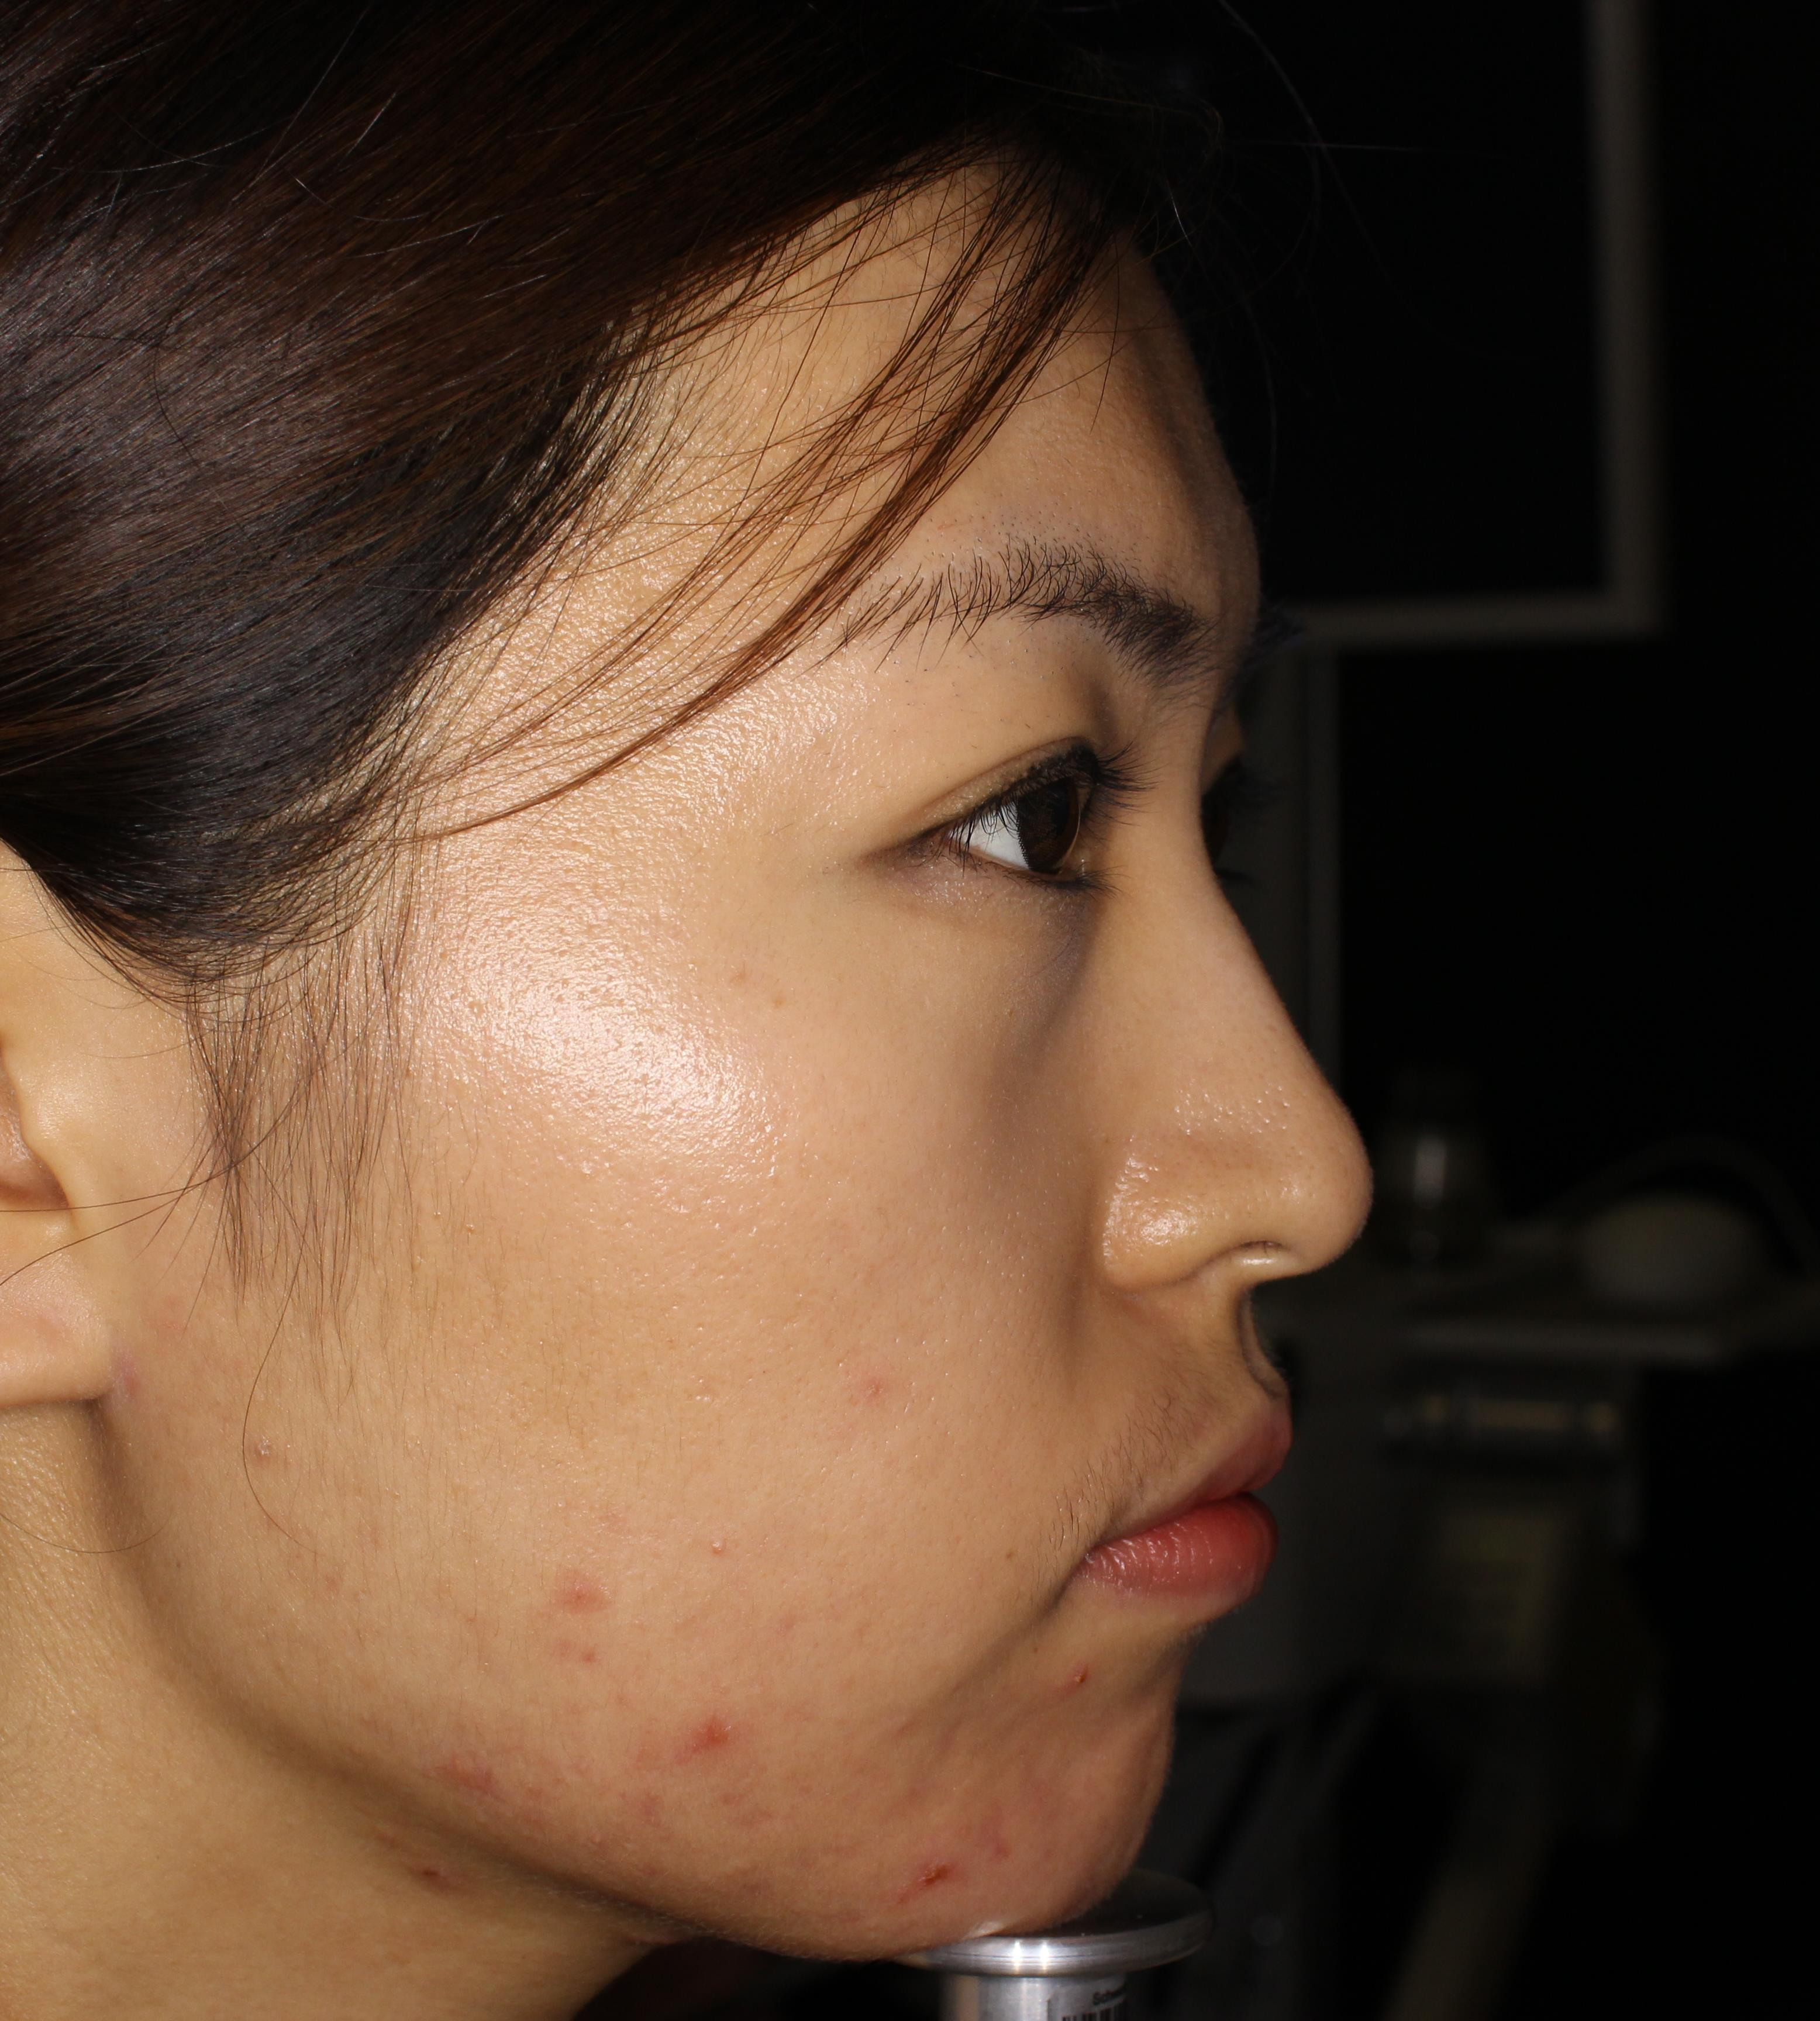fore: (392, 1826, 462, 1938), (898, 1840, 973, 1926), (669, 1710, 754, 1782), (441, 1737, 511, 1805), (552, 1554, 603, 1638), (620, 1773, 678, 1845), (1042, 1649, 1112, 1705)
